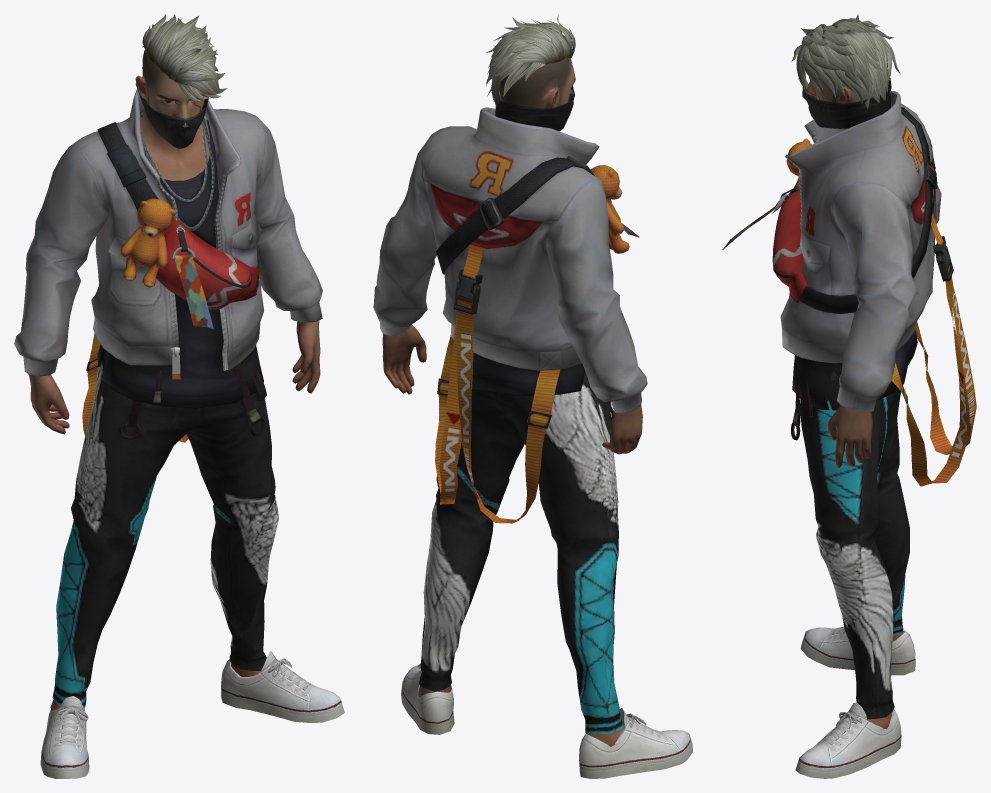
The model's file is TEDDY CHARACTER.fbx.
3 views of the same model, side by side, from view 1: azimuth 30°, elevation 25°; view 2: azimuth 150°, elevation 25°; view 3: azimuth 270°, elevation 25° (orthographic). The views are drawn at different scales.
Parts seen in each view (by area): view 1: Mesh_0008.rip, Mesh_0010.rip, Mesh_0009.rip, Mesh_0007.rip, Mesh_0014.rip, Mesh_0011.rip; view 2: Mesh_0008.rip, Mesh_0010.rip, Mesh_0009.rip, Mesh_0007.rip, Mesh_0014.rip, Mesh_0011.rip; view 3: Mesh_0008.rip, Mesh_0010.rip, Mesh_0009.rip, Mesh_0014.rip, Mesh_0007.rip, Mesh_0011.rip.
Part boxes in pixels (x1=…): Mesh_0008.rip: x1=14, y1=89, x2=322, y2=442; Mesh_0010.rip: x1=52, y1=350, x2=278, y2=708; Mesh_0009.rip: x1=40, y1=650, x2=344, y2=778; Mesh_0007.rip: x1=28, y1=50, x2=320, y2=711; Mesh_0014.rip: x1=142, y1=14, x2=227, y2=101; Mesh_0011.rip: x1=135, y1=77, x2=208, y2=148; Mesh_0008.rip: x1=373, y1=107, x2=647, y2=523; Mesh_0010.rip: x1=418, y1=372, x2=623, y2=733; Mesh_0009.rip: x1=401, y1=663, x2=692, y2=778; Mesh_0007.rip: x1=382, y1=57, x2=642, y2=746; Mesh_0014.rip: x1=485, y1=15, x2=575, y2=107; Mesh_0011.rip: x1=495, y1=85, x2=574, y2=131; Mesh_0008.rip: x1=722, y1=91, x2=976, y2=486; Mesh_0010.rip: x1=791, y1=355, x2=909, y2=719; Mesh_0009.rip: x1=795, y1=626, x2=915, y2=778; Mesh_0014.rip: x1=791, y1=14, x2=900, y2=109; Mesh_0007.rip: x1=805, y1=33, x2=902, y2=728; Mesh_0011.rip: x1=802, y1=78, x2=891, y2=128.
Size of the model in its own units: 49.85 by 117 by 38.99.
